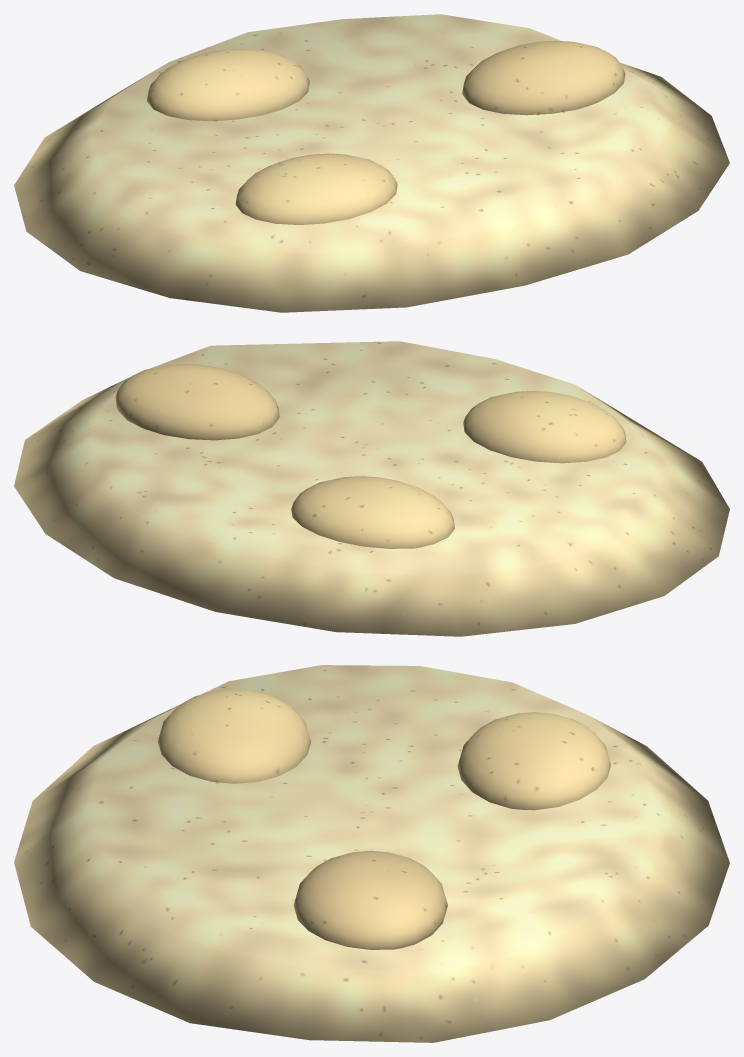
The model's file is sand_pit.glb.
The picture shows the model from 3 angles, top to bottom: view 1: azimuth 30°, elevation 25°; view 2: azimuth 150°, elevation 25°; view 3: azimuth 270°, elevation 25°; orthographic projection. The views are drawn at different scales.
Visible parts, largest first — view 1: SandPit; view 2: SandPit; view 3: SandPit.
Part boxes in pixels (left/top/right/bottom): SandPit: left=14, top=14, right=729, bottom=312; SandPit: left=14, top=341, right=729, bottom=636; SandPit: left=14, top=665, right=729, bottom=1042.
Bounding box in the file's own units: 1.65 × 0.1962 × 1.39.
Materials: 1 (1 with a texture image).
